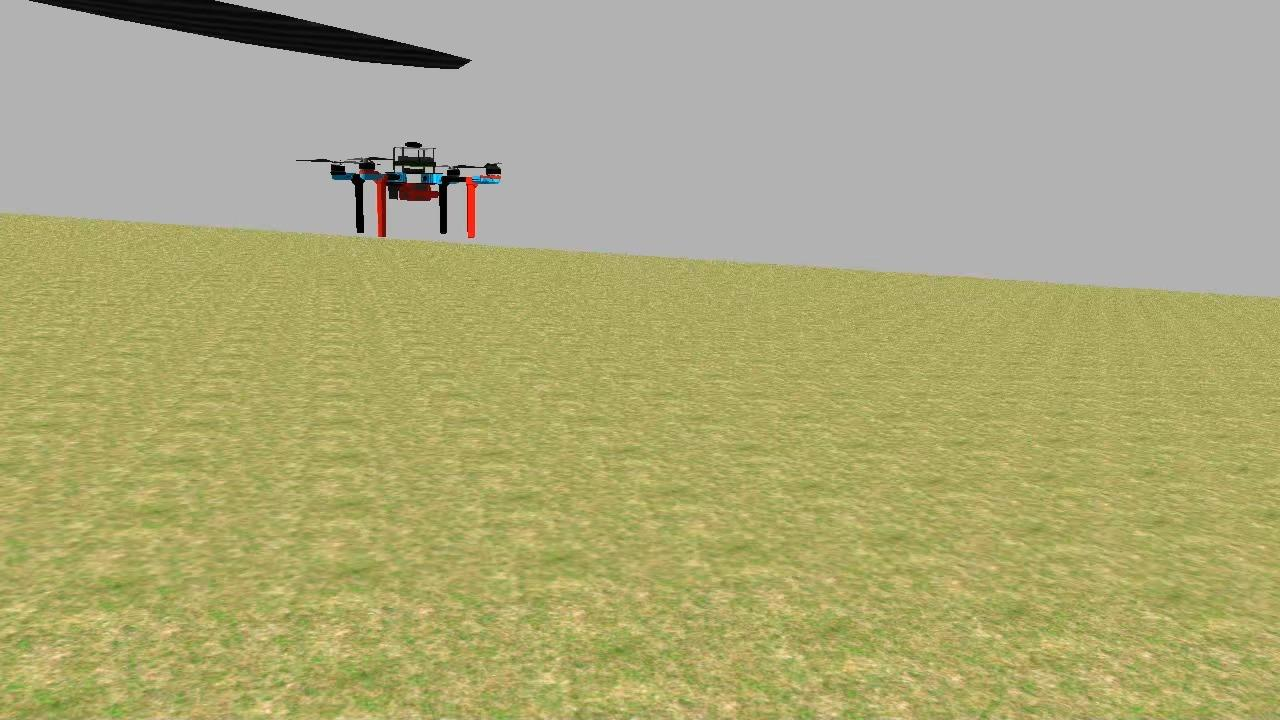UAV: (326, 136, 510, 244)
